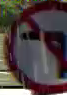Don't turn left: (5, 3, 66, 94)
